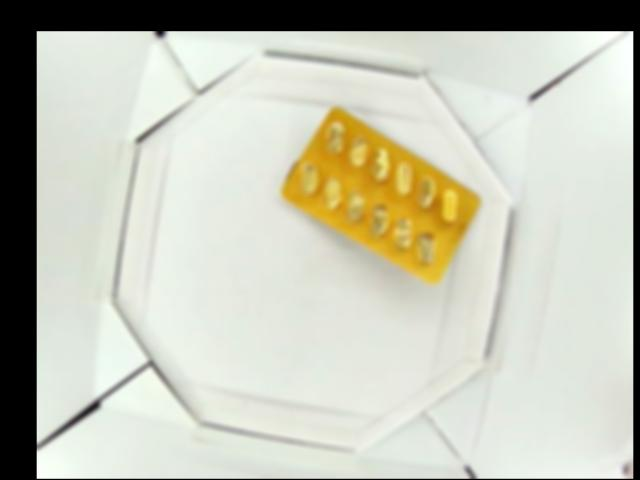Medicine: (279, 103, 480, 282)
